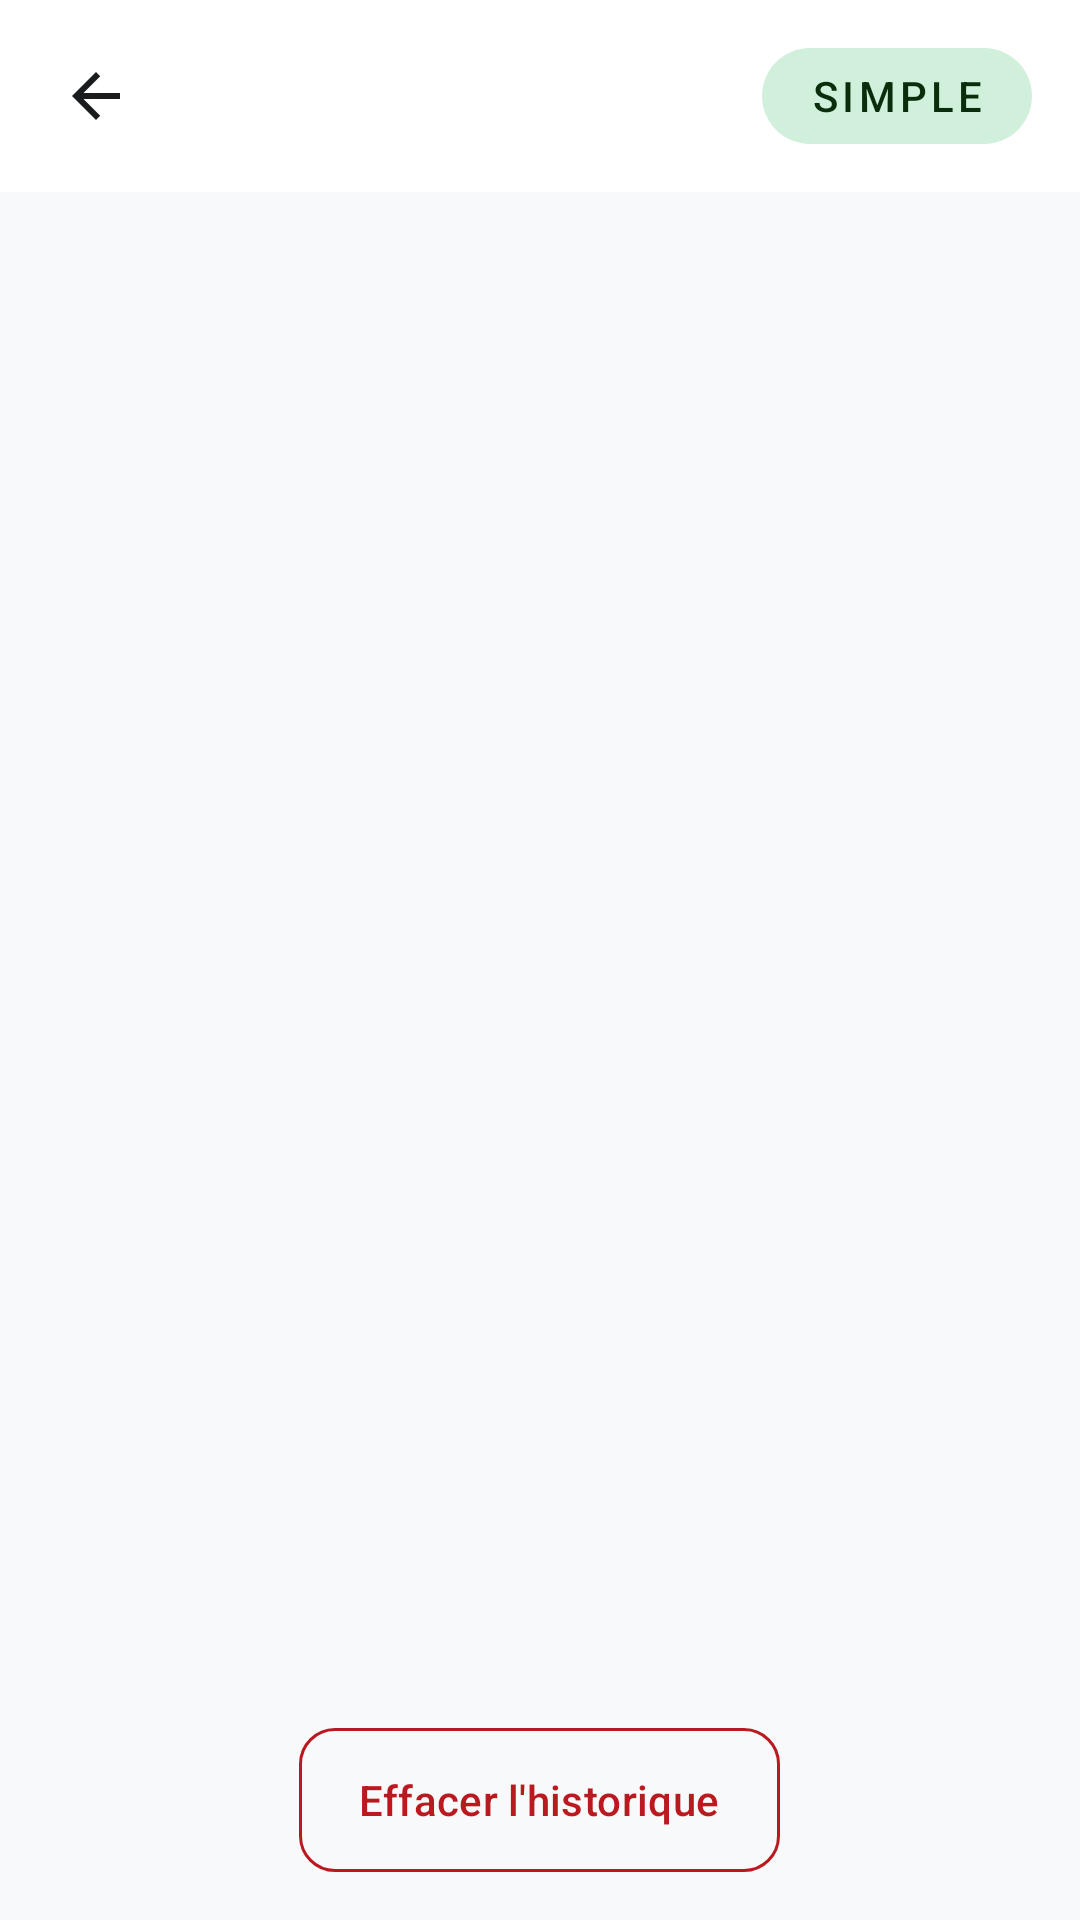

Screen size 1080 x 1920. Icon name, then its box in pixels as (x1, y1, x2, y2):
Retour: (72, 72, 120, 120)
